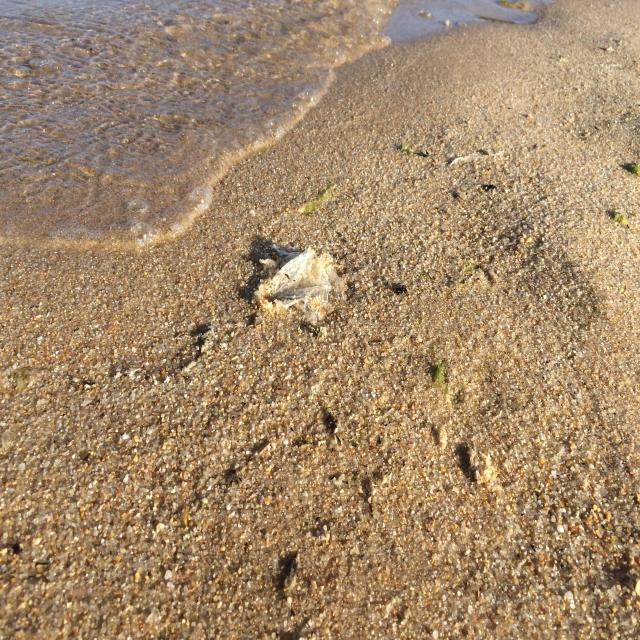litter: (256, 244, 349, 324)
